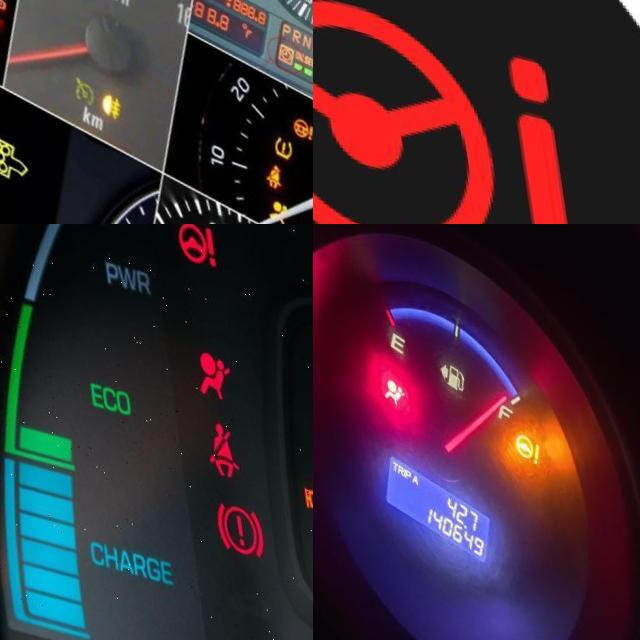Electronic Power Steering: (501, 409, 539, 449)
Electronic Power Steering Warning: (313, 0, 566, 224), (169, 224, 218, 256)
Seat Belt: (193, 402, 230, 469), (257, 140, 274, 168)
